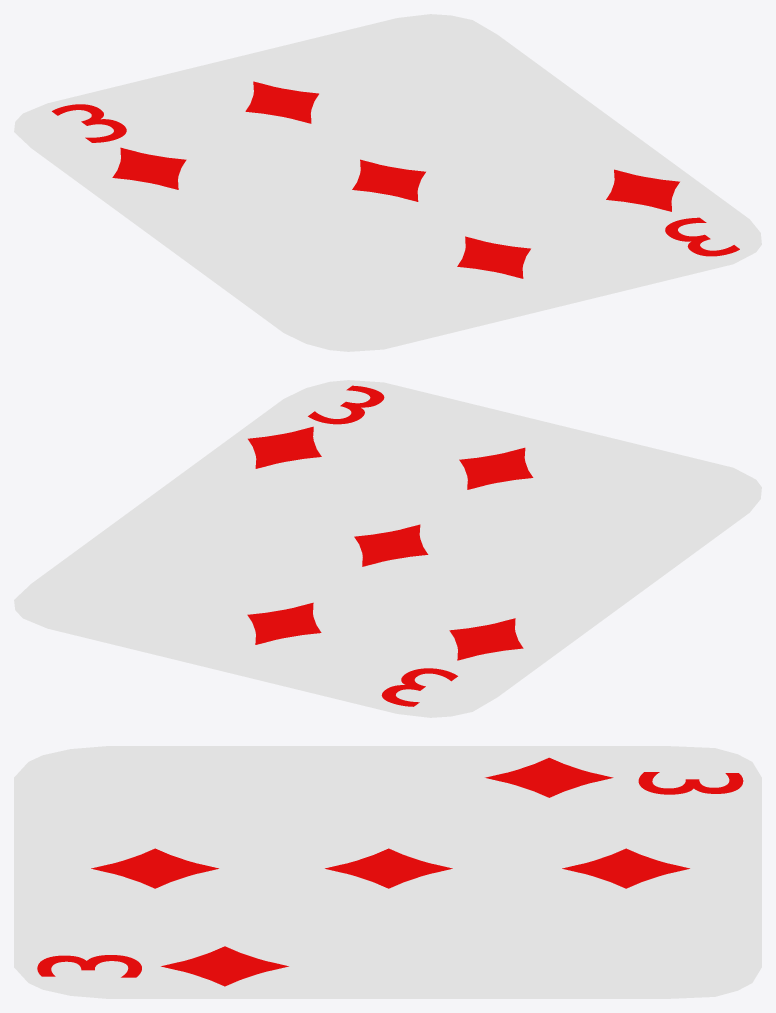
The picture shows the model from 3 angles, top to bottom: view 1: azimuth 30°, elevation 25°; view 2: azimuth 150°, elevation 25°; view 3: azimuth 270°, elevation 25°; orthographic projection. The views are drawn at different scales.
Parts seen in each view (by area): view 1: 3ofDiamonds, AceSpadesFro_Whit.033, Plane.007_Materia, Plane.011_Materia, Plane.012_Materia, Plane.008_Materia, Plane.013_Materia, Font.005_Bla_Blac.001, Font.006_Bla_Blac.001; view 2: 3ofDiamonds, AceSpadesFro_Whit.033, Plane.007_Materia, Plane.011_Materia, Plane.012_Materia, Plane.013_Materia, Plane.008_Materia, Font.005_Bla_Blac.001, Font.006_Bla_Blac.001; view 3: 3ofDiamonds, AceSpadesFro_Whit.033, Plane.011_Materia, Plane.007_Materia, Plane.012_Materia, Plane.013_Materia, Plane.008_Materia, Font.006_Bla_Blac.001, Font.005_Bla_Blac.001.
Part boxes in pixels (x1,y1,x2,y2): 3ofDiamonds: (14,14,711,351); AceSpadesFro_Whit.033: (142,14,761,351); Plane.007_Materia: (112,147,186,189); Plane.011_Materia: (245,81,318,123); Plane.012_Materia: (457,236,530,278); Plane.008_Materia: (606,169,679,211); Plane.013_Materia: (352,159,425,201); Font.005_Bla_Blac.001: (52,104,126,142); Font.006_Bla_Blac.001: (665,217,739,256); 3ofDiamonds: (42,380,761,717); AceSpadesFro_Whit.033: (14,380,653,717); Plane.007_Materia: (449,618,523,660); Plane.011_Materia: (247,602,321,644); Plane.012_Materia: (459,447,533,489); Plane.013_Materia: (354,524,428,566); Plane.008_Materia: (248,426,321,468); Font.005_Bla_Blac.001: (381,668,457,706); Font.006_Bla_Blac.001: (308,385,384,424); 3ofDiamonds: (14,746,761,998); AceSpadesFro_Whit.033: (14,833,761,998); Plane.011_Materia: (562,848,689,888); Plane.007_Materia: (485,757,613,797); Plane.012_Materia: (91,848,218,888); Plane.013_Materia: (325,848,452,888); Plane.008_Materia: (161,946,288,986); Font.006_Bla_Blac.001: (37,955,141,977); Font.005_Bla_Blac.001: (638,772,743,794).
Bounding box in the file's own units: 1.6 × 0.00974 × 2.
